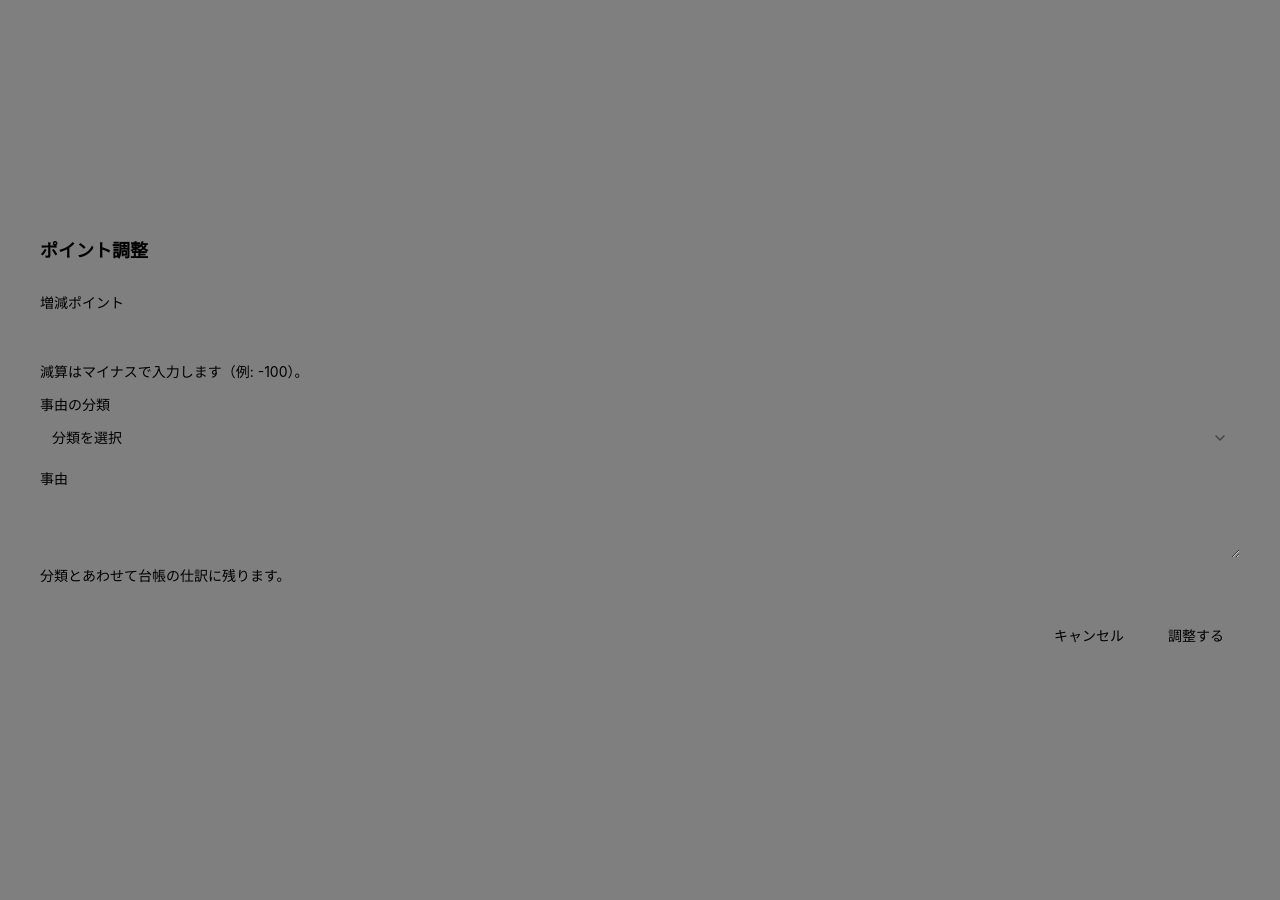
Test: PointAdjustmentDialog › 増減ポイントが空欄なら送信せず、無反応にもせず理由を出す
The image size is (1280, 900).
Click the dropdown named "事由の分類": (87, 438) 40,420 -> 1240,456
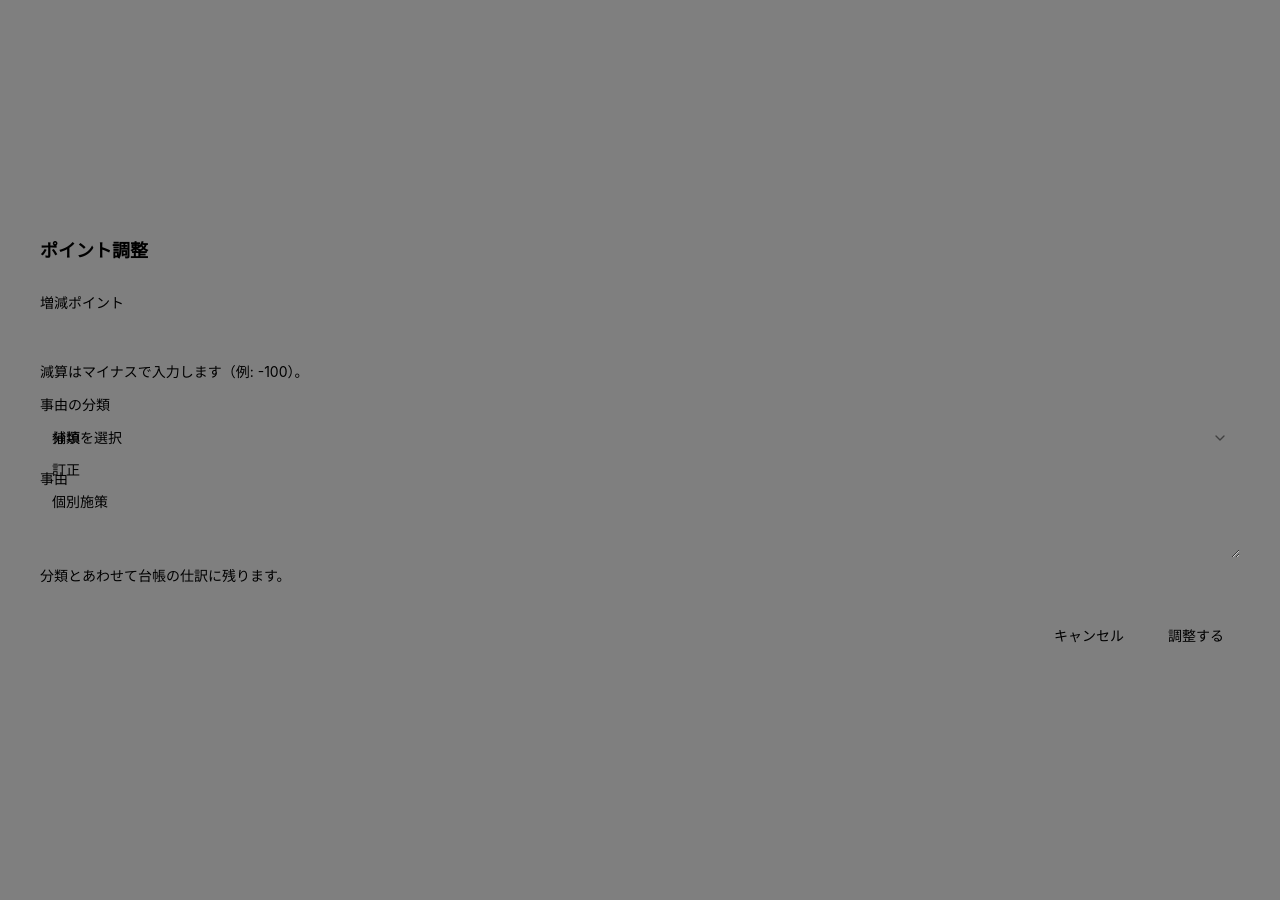
Click the option "訂正": (66, 470) 52,461 -> 80,478
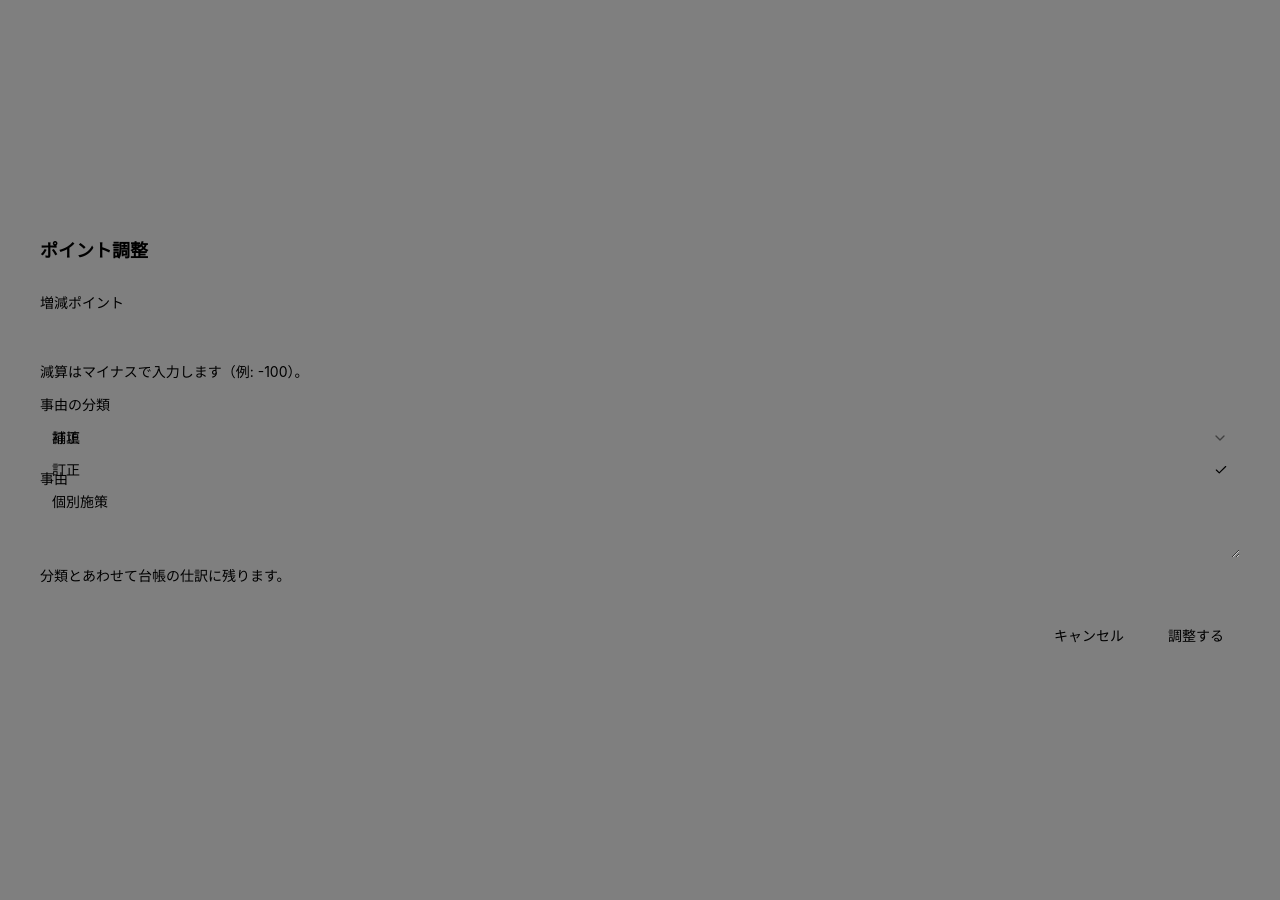
In the text box labelled "事由": (640, 526) 40,494 -> 1240,558, type "補正"
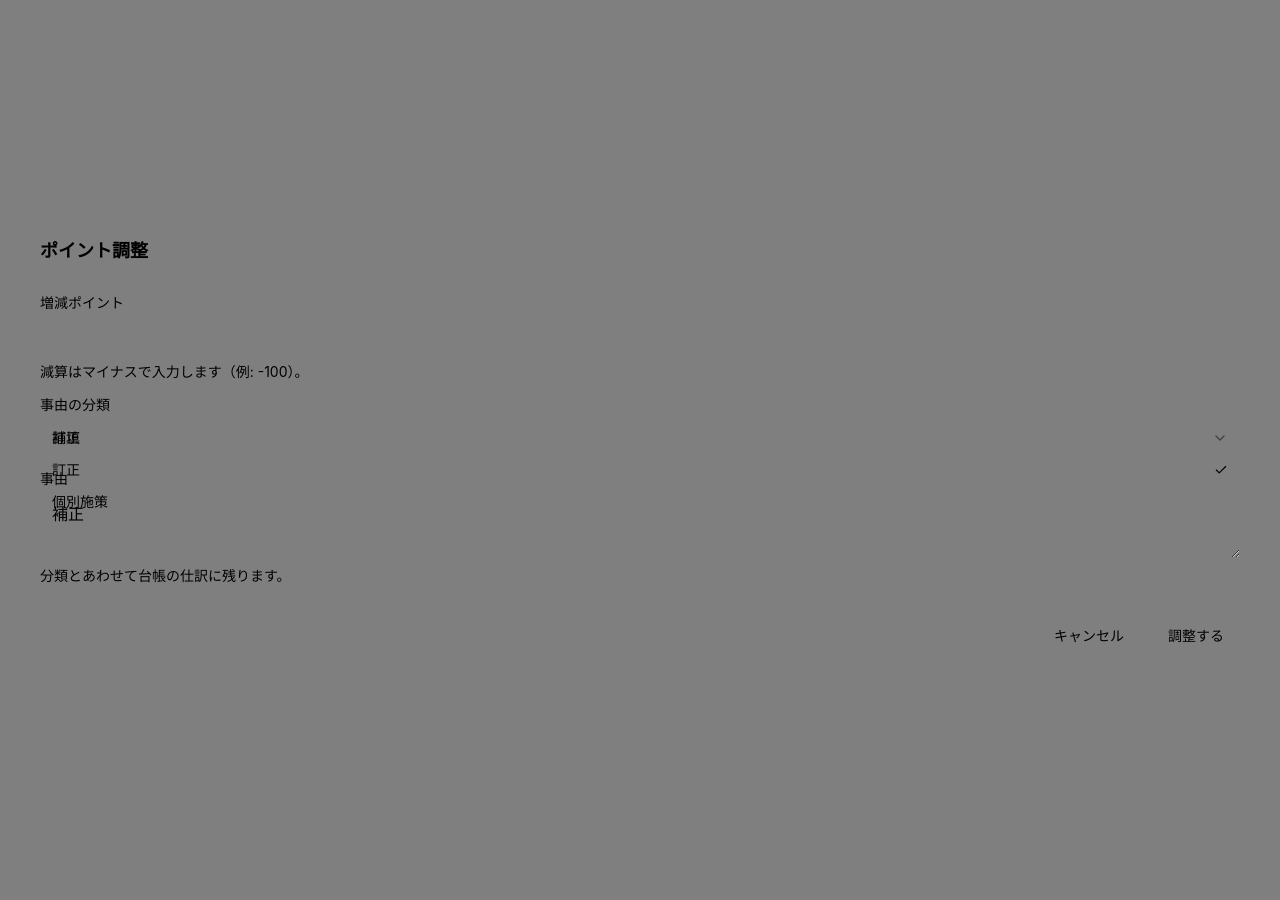
Click the button "調整する": (1196, 636) 1152,618 -> 1240,654
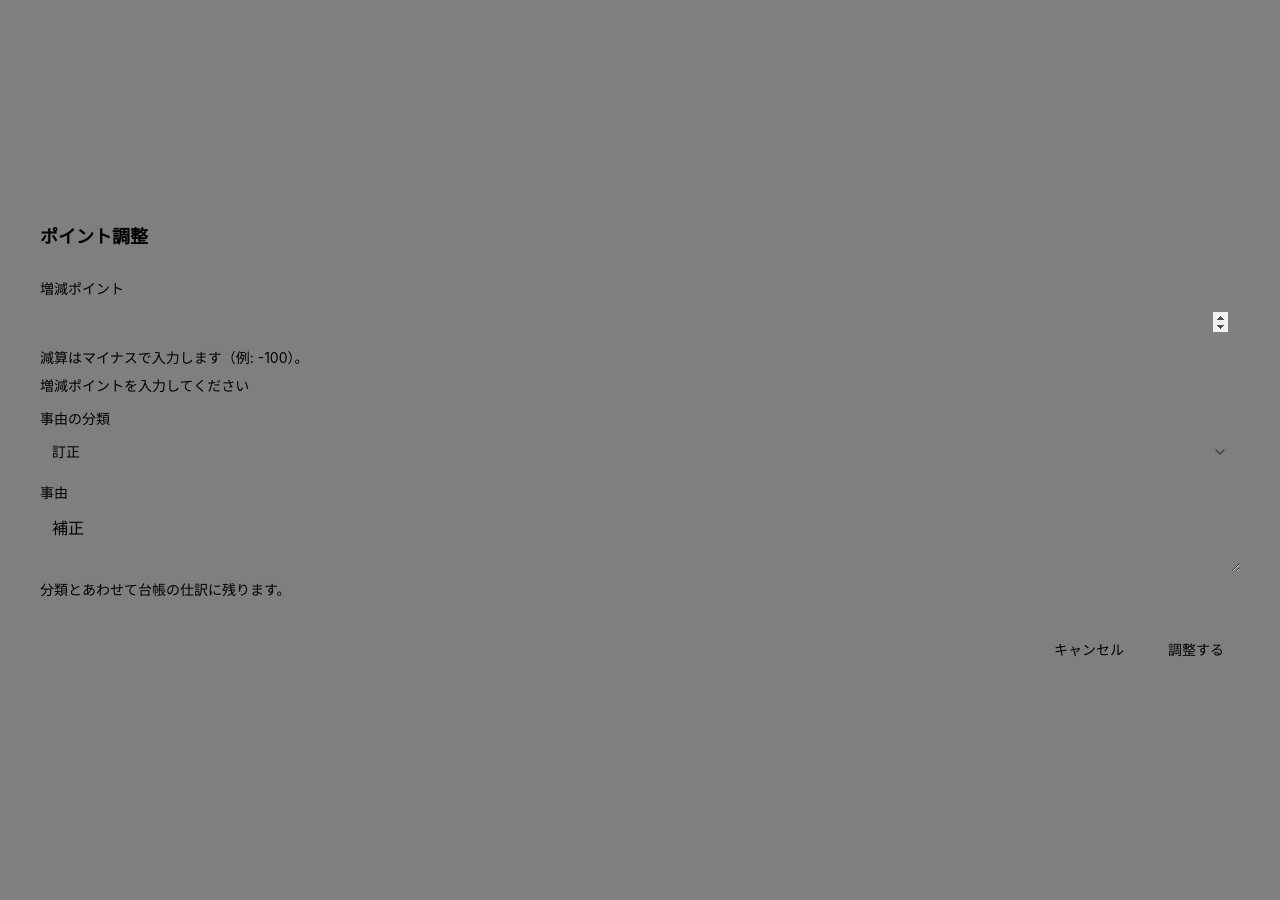
Now the text "増減ポイントを入力してください" is shown, box 40,377 -> 249,394
